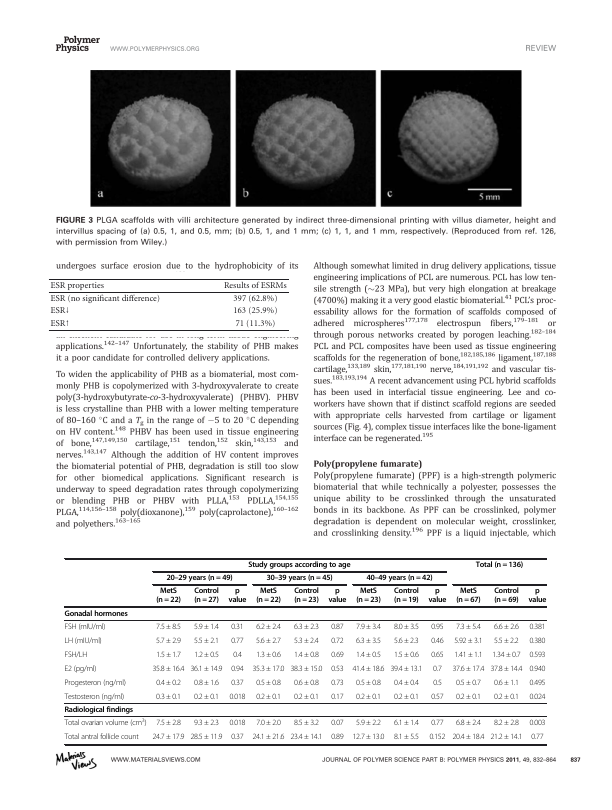borderless: (63, 557, 546, 744), (47, 277, 289, 330)
cell: (49, 294, 161, 304), (247, 561, 351, 570), (64, 717, 147, 728), (265, 574, 334, 584), (64, 733, 140, 742), (165, 574, 233, 584), (365, 574, 433, 584), (223, 281, 288, 291), (64, 609, 129, 619), (64, 678, 127, 688), (64, 706, 134, 715), (64, 692, 125, 702), (49, 281, 105, 291), (155, 587, 182, 606), (193, 587, 220, 606), (255, 587, 282, 606), (293, 587, 320, 606), (355, 587, 382, 606), (393, 587, 420, 606), (455, 587, 482, 606), (493, 587, 520, 606), (234, 318, 276, 329), (232, 294, 278, 304), (232, 306, 278, 316), (475, 561, 524, 570), (64, 622, 106, 632), (64, 636, 103, 646), (327, 587, 347, 606), (427, 587, 447, 606), (527, 587, 547, 606), (228, 587, 247, 606), (151, 664, 185, 674), (189, 664, 223, 674), (251, 664, 285, 674), (289, 664, 323, 674), (351, 664, 385, 674), (389, 664, 423, 674), (451, 664, 485, 674), (489, 664, 523, 674), (64, 664, 97, 674), (453, 650, 484, 660), (491, 650, 522, 660), (151, 733, 185, 742), (189, 733, 223, 742), (251, 733, 285, 742), (289, 733, 323, 742), (351, 733, 385, 742), (451, 733, 485, 742), (489, 733, 523, 742), (453, 636, 483, 646), (155, 622, 182, 632), (193, 622, 220, 632), (255, 622, 282, 632), (293, 622, 320, 632), (355, 622, 382, 632), (393, 622, 420, 632), (455, 622, 482, 632), (493, 622, 520, 632), (155, 636, 182, 646), (193, 636, 220, 646), (255, 636, 282, 646), (293, 636, 320, 646), (355, 636, 382, 646), (393, 636, 420, 646), (493, 636, 520, 646), (155, 650, 182, 660), (193, 650, 220, 660), (255, 650, 282, 660), (293, 650, 320, 660), (355, 650, 382, 660), (393, 650, 420, 660), (155, 678, 182, 688), (193, 678, 220, 688), (255, 678, 282, 688), (293, 678, 320, 688), (355, 678, 382, 688), (393, 678, 420, 688), (455, 678, 482, 688), (493, 678, 520, 688), (155, 692, 182, 702), (193, 692, 220, 702), (255, 692, 282, 702), (293, 692, 320, 702), (355, 692, 382, 702), (393, 692, 420, 702), (455, 692, 482, 702), (493, 692, 520, 702), (155, 719, 182, 728), (193, 719, 220, 728), (255, 719, 282, 728), (293, 719, 320, 728), (355, 719, 382, 728), (393, 719, 420, 728), (455, 719, 482, 728), (493, 719, 520, 728), (393, 733, 420, 742), (49, 318, 71, 329), (64, 650, 88, 660), (49, 306, 71, 316), (528, 622, 546, 632), (528, 636, 546, 646), (528, 650, 546, 660), (528, 664, 546, 674), (528, 678, 546, 688), (228, 692, 246, 702), (528, 692, 546, 702), (228, 719, 246, 728), (528, 719, 546, 728), (428, 733, 446, 742), (230, 622, 245, 632), (330, 622, 345, 632), (330, 650, 345, 660), (430, 650, 445, 660), (330, 664, 345, 674), (230, 678, 245, 688), (330, 678, 345, 688), (330, 692, 345, 702), (430, 622, 444, 632), (230, 636, 244, 646), (330, 636, 344, 646), (430, 636, 444, 646), (230, 664, 244, 674), (430, 692, 444, 702), (330, 719, 345, 728), (330, 733, 345, 742), (430, 719, 444, 728), (230, 733, 244, 742), (530, 733, 544, 742), (232, 650, 243, 660), (432, 664, 443, 674), (432, 678, 443, 688)
